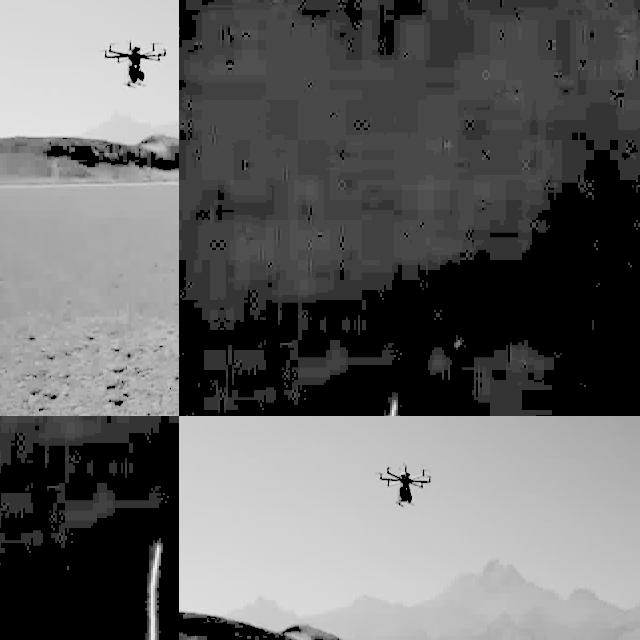0: (448, 331, 466, 361)
drone: (376, 455, 433, 513), (102, 38, 167, 87)
